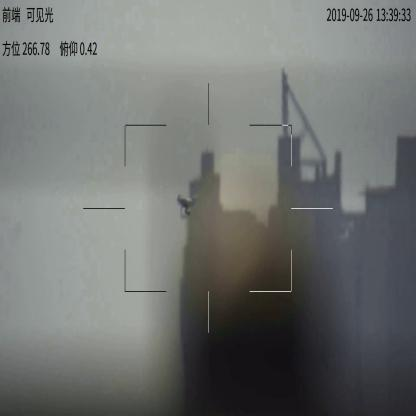uav: (172, 194, 196, 220)
